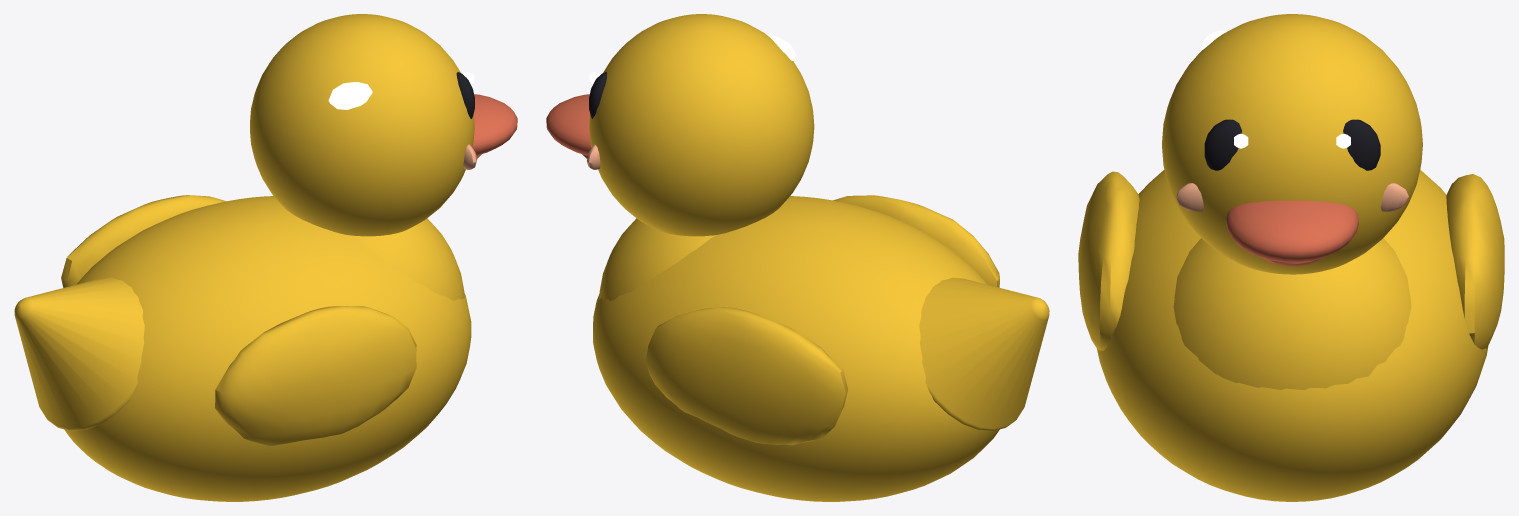
Rendered from rubber_duck.glb.
The picture shows the model from 3 angles, left to right: view 1: azimuth 30°, elevation 25°; view 2: azimuth 150°, elevation 25°; view 3: azimuth 270°, elevation 25°; orthographic projection. The views are drawn at different scales.
Visible parts, largest first — view 1: rubber_duck; view 2: rubber_duck; view 3: rubber_duck.
Boxes of the visible parts, x1,y1,x2,y2 form: rubber_duck: [14, 14, 517, 501]; rubber_duck: [546, 14, 1049, 501]; rubber_duck: [1078, 14, 1504, 501].
Size of the model in its own units: 1.42 by 1.18 by 0.9145.
Materials: 1 (1 with a texture image).
